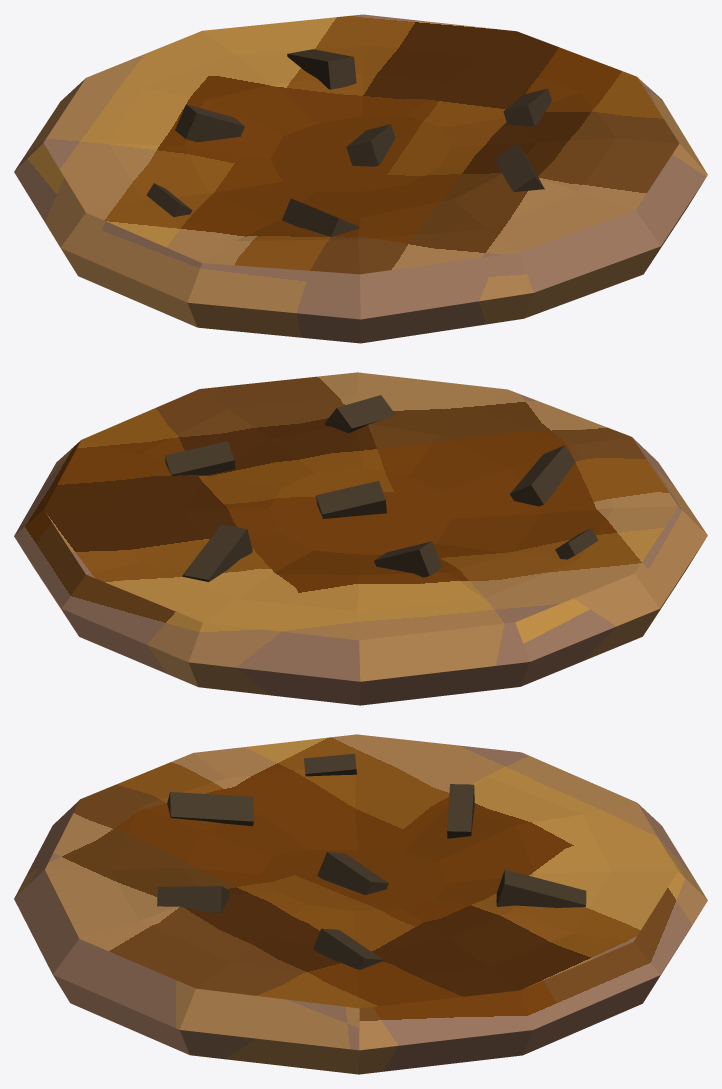
Rendered from biscut.glb.
3 renders of one model, top to bottom at view 1: azimuth 30°, elevation 25°; view 2: azimuth 150°, elevation 25°; view 3: azimuth 270°, elevation 25°, orthographic.
Parts seen in each view (by area): view 1: base, toppings; view 2: base, toppings; view 3: base, toppings.
Boxes of the visible parts, x1,y1,x2,y2 form: base: [14, 14, 707, 343]; toppings: [146, 49, 551, 236]; base: [14, 372, 707, 705]; toppings: [165, 395, 598, 581]; base: [14, 734, 707, 1074]; toppings: [157, 753, 586, 969].
Size of the model in its own units: 2.13 by 0.3064 by 2.09.
Materials: 2 (1 with a texture image).
